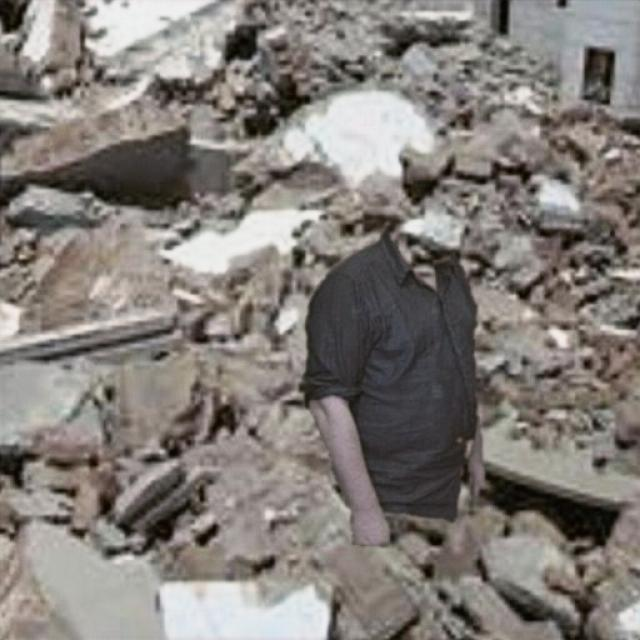Person in Rubble: (298, 223, 488, 546)
